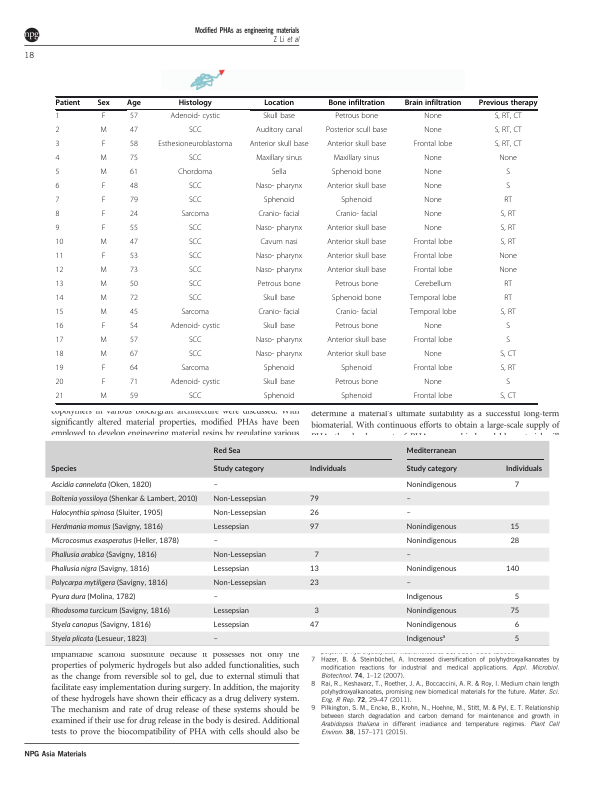borderless: (54, 95, 537, 403), (43, 440, 550, 647)
cell: (50, 493, 197, 505), (50, 535, 179, 547), (50, 605, 170, 617), (50, 577, 168, 589), (50, 507, 163, 519), (50, 521, 163, 533), (50, 549, 157, 561), (50, 479, 151, 491), (50, 619, 151, 631), (50, 563, 149, 575), (50, 633, 147, 645), (50, 591, 135, 603), (157, 140, 233, 150), (405, 444, 456, 457), (212, 493, 266, 505), (212, 507, 266, 519), (212, 549, 266, 561), (212, 577, 266, 589), (325, 126, 388, 136), (212, 463, 264, 475), (405, 463, 457, 475), (405, 479, 457, 491), (405, 521, 457, 533), (405, 535, 457, 547), (405, 563, 457, 575), (405, 605, 457, 617), (405, 619, 457, 631), (326, 140, 387, 150), (326, 182, 387, 192), (326, 224, 387, 234), (326, 238, 387, 248), (326, 252, 387, 262), (326, 266, 387, 276), (326, 336, 387, 346), (326, 350, 387, 360), (249, 140, 309, 150), (478, 99, 538, 108), (327, 99, 386, 108), (404, 99, 462, 108), (169, 112, 221, 122), (169, 322, 221, 332), (169, 378, 221, 388), (405, 632, 445, 645), (331, 168, 382, 178), (331, 294, 382, 304), (255, 126, 303, 136), (255, 154, 303, 164), (255, 182, 303, 192), (255, 224, 303, 234), (255, 252, 303, 262), (255, 266, 303, 276), (409, 294, 457, 304), (409, 308, 457, 318), (255, 336, 303, 346), (255, 350, 303, 360), (333, 154, 380, 164), (405, 591, 443, 603), (334, 112, 379, 122), (334, 280, 379, 290), (334, 322, 379, 332), (334, 378, 379, 388), (212, 521, 249, 533), (212, 563, 249, 575), (212, 605, 249, 617), (212, 619, 249, 631), (257, 210, 301, 220), (257, 280, 301, 290), (257, 308, 301, 318), (335, 210, 378, 220), (335, 308, 378, 318), (413, 140, 453, 150), (259, 238, 299, 248), (413, 238, 453, 248), (413, 252, 453, 262), (413, 266, 453, 276), (413, 336, 453, 346), (413, 364, 453, 374), (413, 392, 453, 402), (414, 280, 452, 290), (212, 444, 241, 457), (177, 168, 213, 178), (262, 112, 296, 122), (262, 294, 296, 304), (262, 322, 296, 332), (262, 378, 296, 388), (340, 196, 373, 206), (340, 364, 373, 374), (340, 392, 373, 402), (50, 463, 77, 475), (263, 196, 295, 206), (263, 364, 295, 374), (263, 392, 295, 402), (178, 99, 213, 108), (308, 465, 346, 473), (504, 465, 542, 473), (180, 210, 210, 220), (180, 308, 210, 318), (180, 364, 210, 374), (494, 112, 523, 122), (494, 126, 523, 136), (494, 140, 523, 150), (263, 99, 295, 108), (55, 99, 81, 108), (423, 112, 443, 122), (423, 126, 443, 136), (423, 154, 443, 164), (498, 154, 518, 164), (423, 168, 443, 178), (423, 182, 443, 192), (423, 196, 443, 206), (423, 210, 443, 220), (423, 224, 443, 234), (498, 252, 518, 262), (498, 266, 518, 276), (423, 322, 443, 332), (423, 350, 443, 360), (423, 378, 443, 388), (499, 350, 517, 360), (499, 392, 517, 402), (500, 210, 517, 220), (500, 224, 517, 234), (500, 238, 517, 248), (500, 308, 517, 318), (500, 364, 517, 374), (271, 168, 287, 178), (126, 99, 142, 108), (188, 126, 202, 136), (188, 154, 202, 164), (188, 182, 202, 192), (188, 196, 202, 206), (188, 224, 202, 234), (188, 238, 202, 248), (188, 252, 202, 262), (188, 266, 202, 276), (188, 280, 202, 290), (188, 294, 202, 304), (188, 336, 202, 346), (188, 350, 202, 360), (188, 392, 202, 402), (96, 99, 111, 108), (308, 493, 319, 505), (308, 507, 319, 519), (308, 521, 319, 533), (504, 566, 519, 573), (129, 112, 139, 122), (129, 126, 139, 136), (129, 140, 139, 150), (129, 154, 139, 164), (129, 168, 139, 178), (129, 182, 139, 192), (129, 196, 139, 206), (503, 196, 513, 206), (129, 210, 139, 220), (129, 224, 139, 234), (129, 238, 139, 248), (129, 252, 139, 262), (129, 266, 139, 276), (129, 280, 139, 290), (503, 280, 513, 290), (129, 294, 139, 304), (503, 294, 513, 304), (129, 308, 139, 318), (129, 322, 139, 332), (129, 336, 139, 346), (129, 350, 139, 360), (129, 364, 139, 374), (129, 378, 139, 388), (129, 392, 139, 402), (99, 126, 108, 136), (99, 154, 108, 164), (99, 168, 108, 178), (55, 238, 64, 248), (99, 238, 108, 248), (55, 252, 64, 262), (55, 266, 64, 276), (99, 266, 108, 276), (55, 280, 64, 290), (99, 280, 108, 290), (55, 294, 64, 304), (99, 294, 108, 304), (55, 308, 64, 318), (99, 308, 108, 318), (55, 322, 64, 332), (55, 336, 64, 346), (99, 336, 108, 346), (55, 350, 64, 360), (99, 350, 108, 360), (55, 364, 64, 374), (55, 378, 64, 388), (55, 392, 64, 402), (99, 392, 108, 402), (308, 566, 319, 573), (308, 580, 319, 587), (308, 622, 319, 629), (513, 619, 519, 631), (509, 524, 519, 531), (509, 538, 519, 545), (509, 608, 519, 615), (505, 168, 511, 178), (505, 182, 511, 192), (505, 322, 511, 332), (505, 336, 511, 346), (505, 378, 511, 388), (55, 112, 60, 122), (101, 112, 106, 122), (55, 126, 60, 136), (55, 140, 60, 150), (101, 140, 106, 150), (55, 154, 60, 164), (55, 168, 60, 178), (55, 182, 60, 192), (101, 182, 106, 192), (55, 196, 60, 206), (101, 196, 106, 206), (55, 210, 60, 220), (101, 210, 106, 220), (55, 224, 60, 234), (101, 224, 106, 234), (101, 252, 106, 262), (101, 322, 106, 332), (101, 364, 106, 374), (101, 378, 106, 388), (212, 482, 218, 489), (513, 482, 519, 489), (405, 496, 411, 503), (405, 510, 411, 517), (212, 538, 218, 545), (313, 552, 319, 559), (405, 552, 411, 559), (405, 580, 411, 587), (212, 594, 218, 601), (513, 594, 519, 601), (313, 608, 319, 615), (212, 636, 218, 643), (513, 636, 519, 643)
